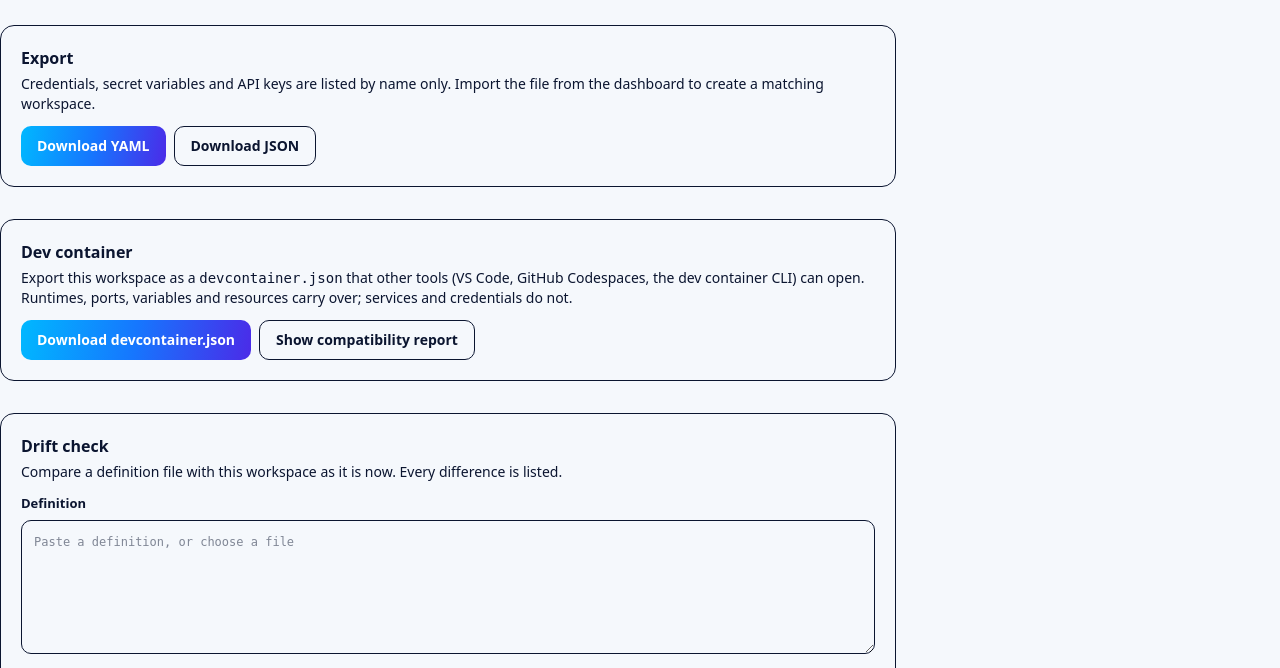
Test case: DefinitionTab › says when the workspace is in sync and shows unreadable files as errors
Type "x" into the text box labelled "Definition".
click(448, 586); type("x")  # box x1=21 y1=520 x2=875 y2=654
(page scrolled)
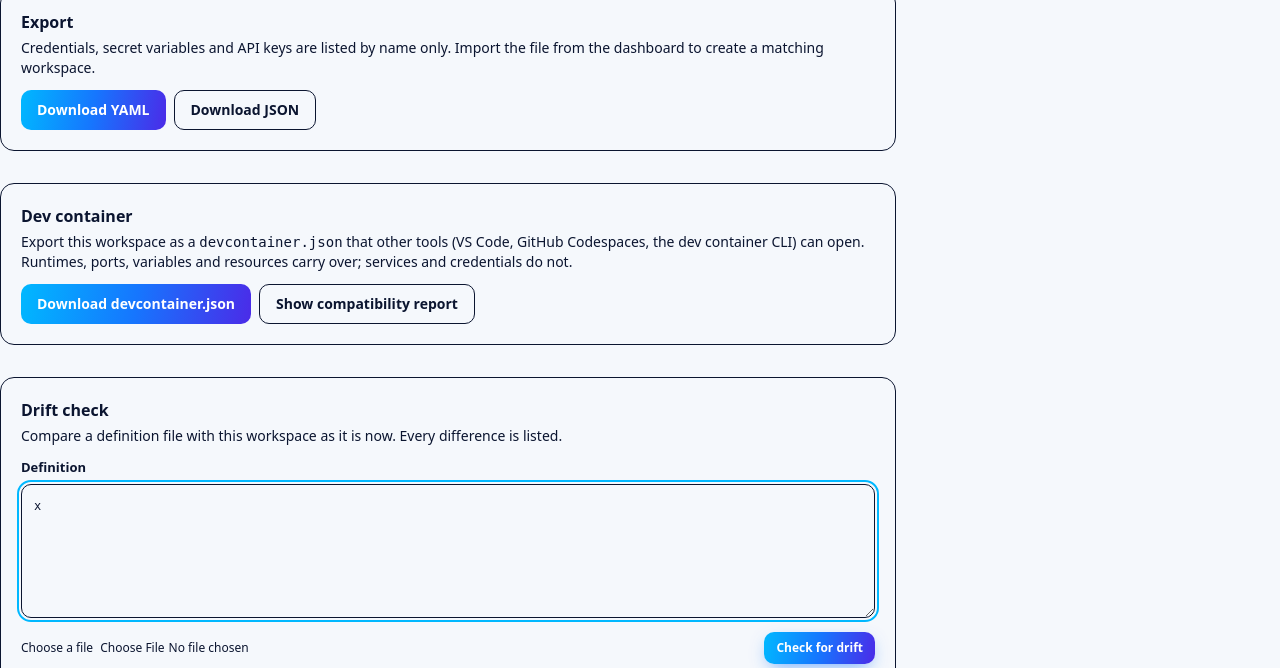
Click the button "Check for drift".
click(820, 648)  # box x1=764 y1=632 x2=875 y2=664
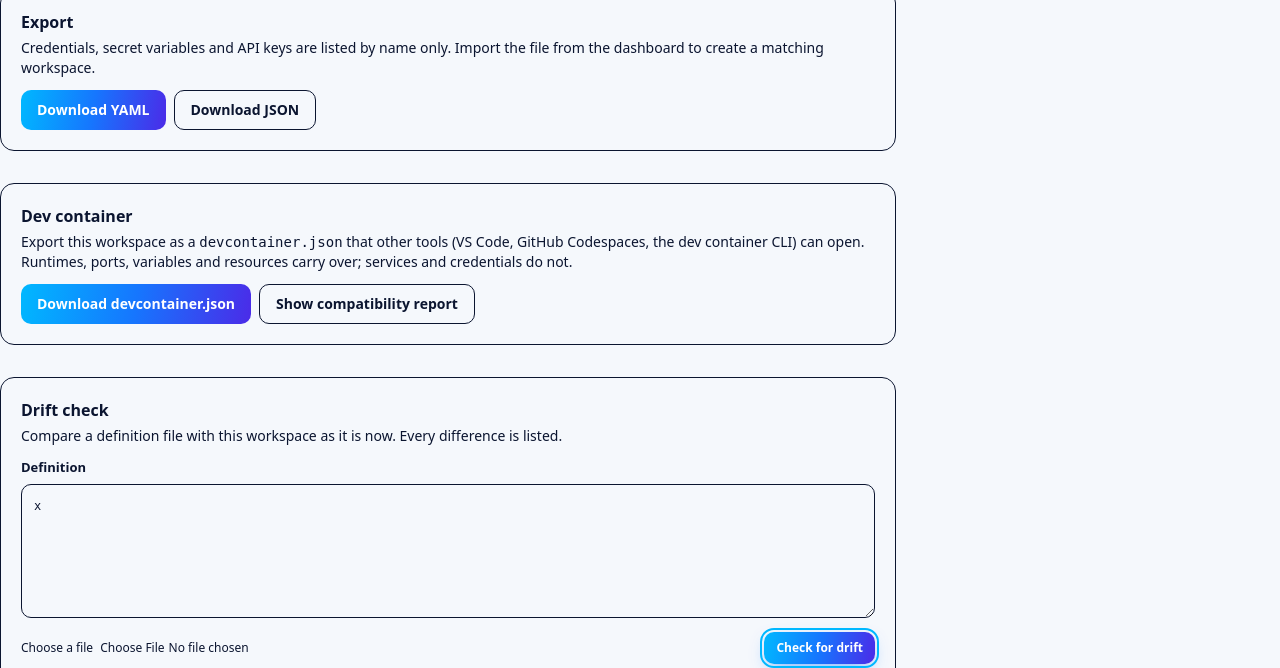
Type "y" into the text box labelled "Definition".
click(448, 550); type("y")  # box x1=21 y1=484 x2=875 y2=618
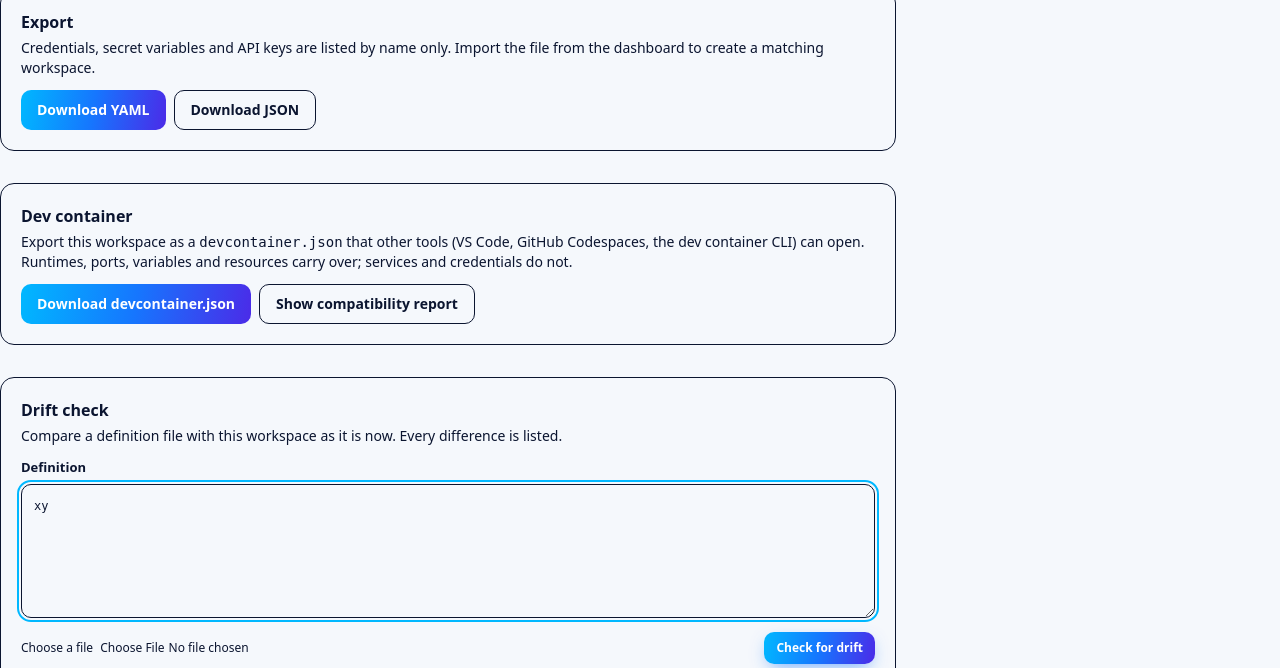
Click the button "Check for drift".
click(820, 648)  # box x1=764 y1=632 x2=875 y2=664
(page scrolled)
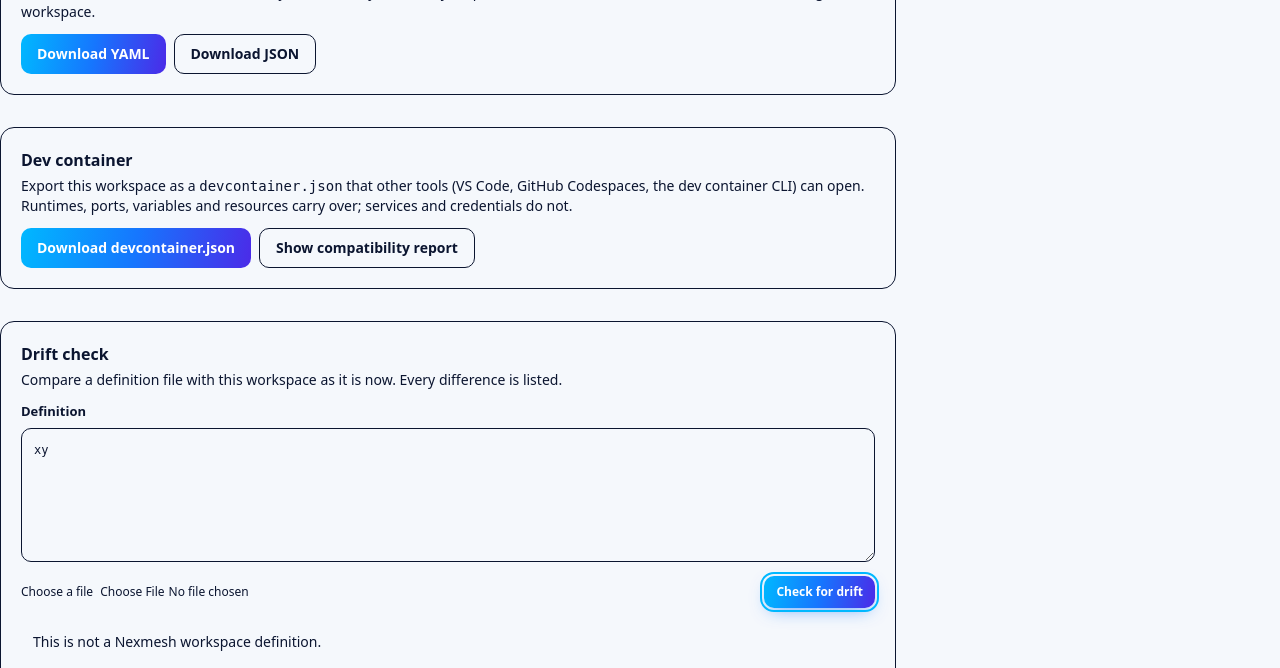
Now the message shows "not a Nexmesh workspace definition", box x1=33 y1=632 x2=321 y2=650
